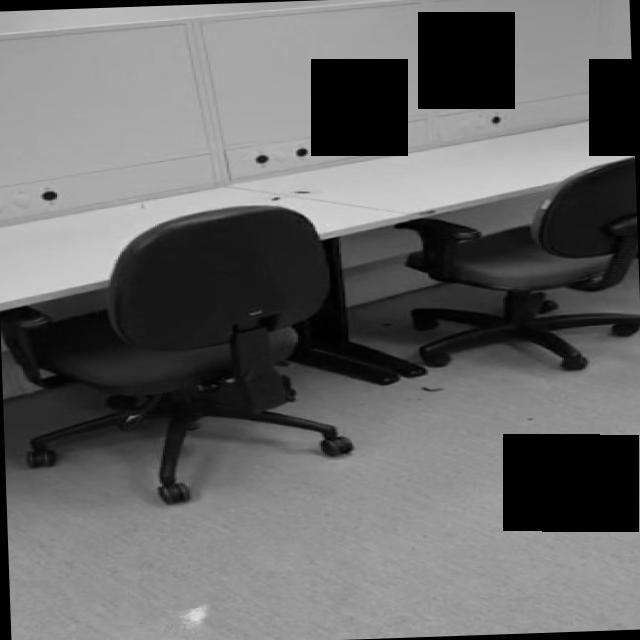cadeira-azul: (0, 201, 353, 508)
